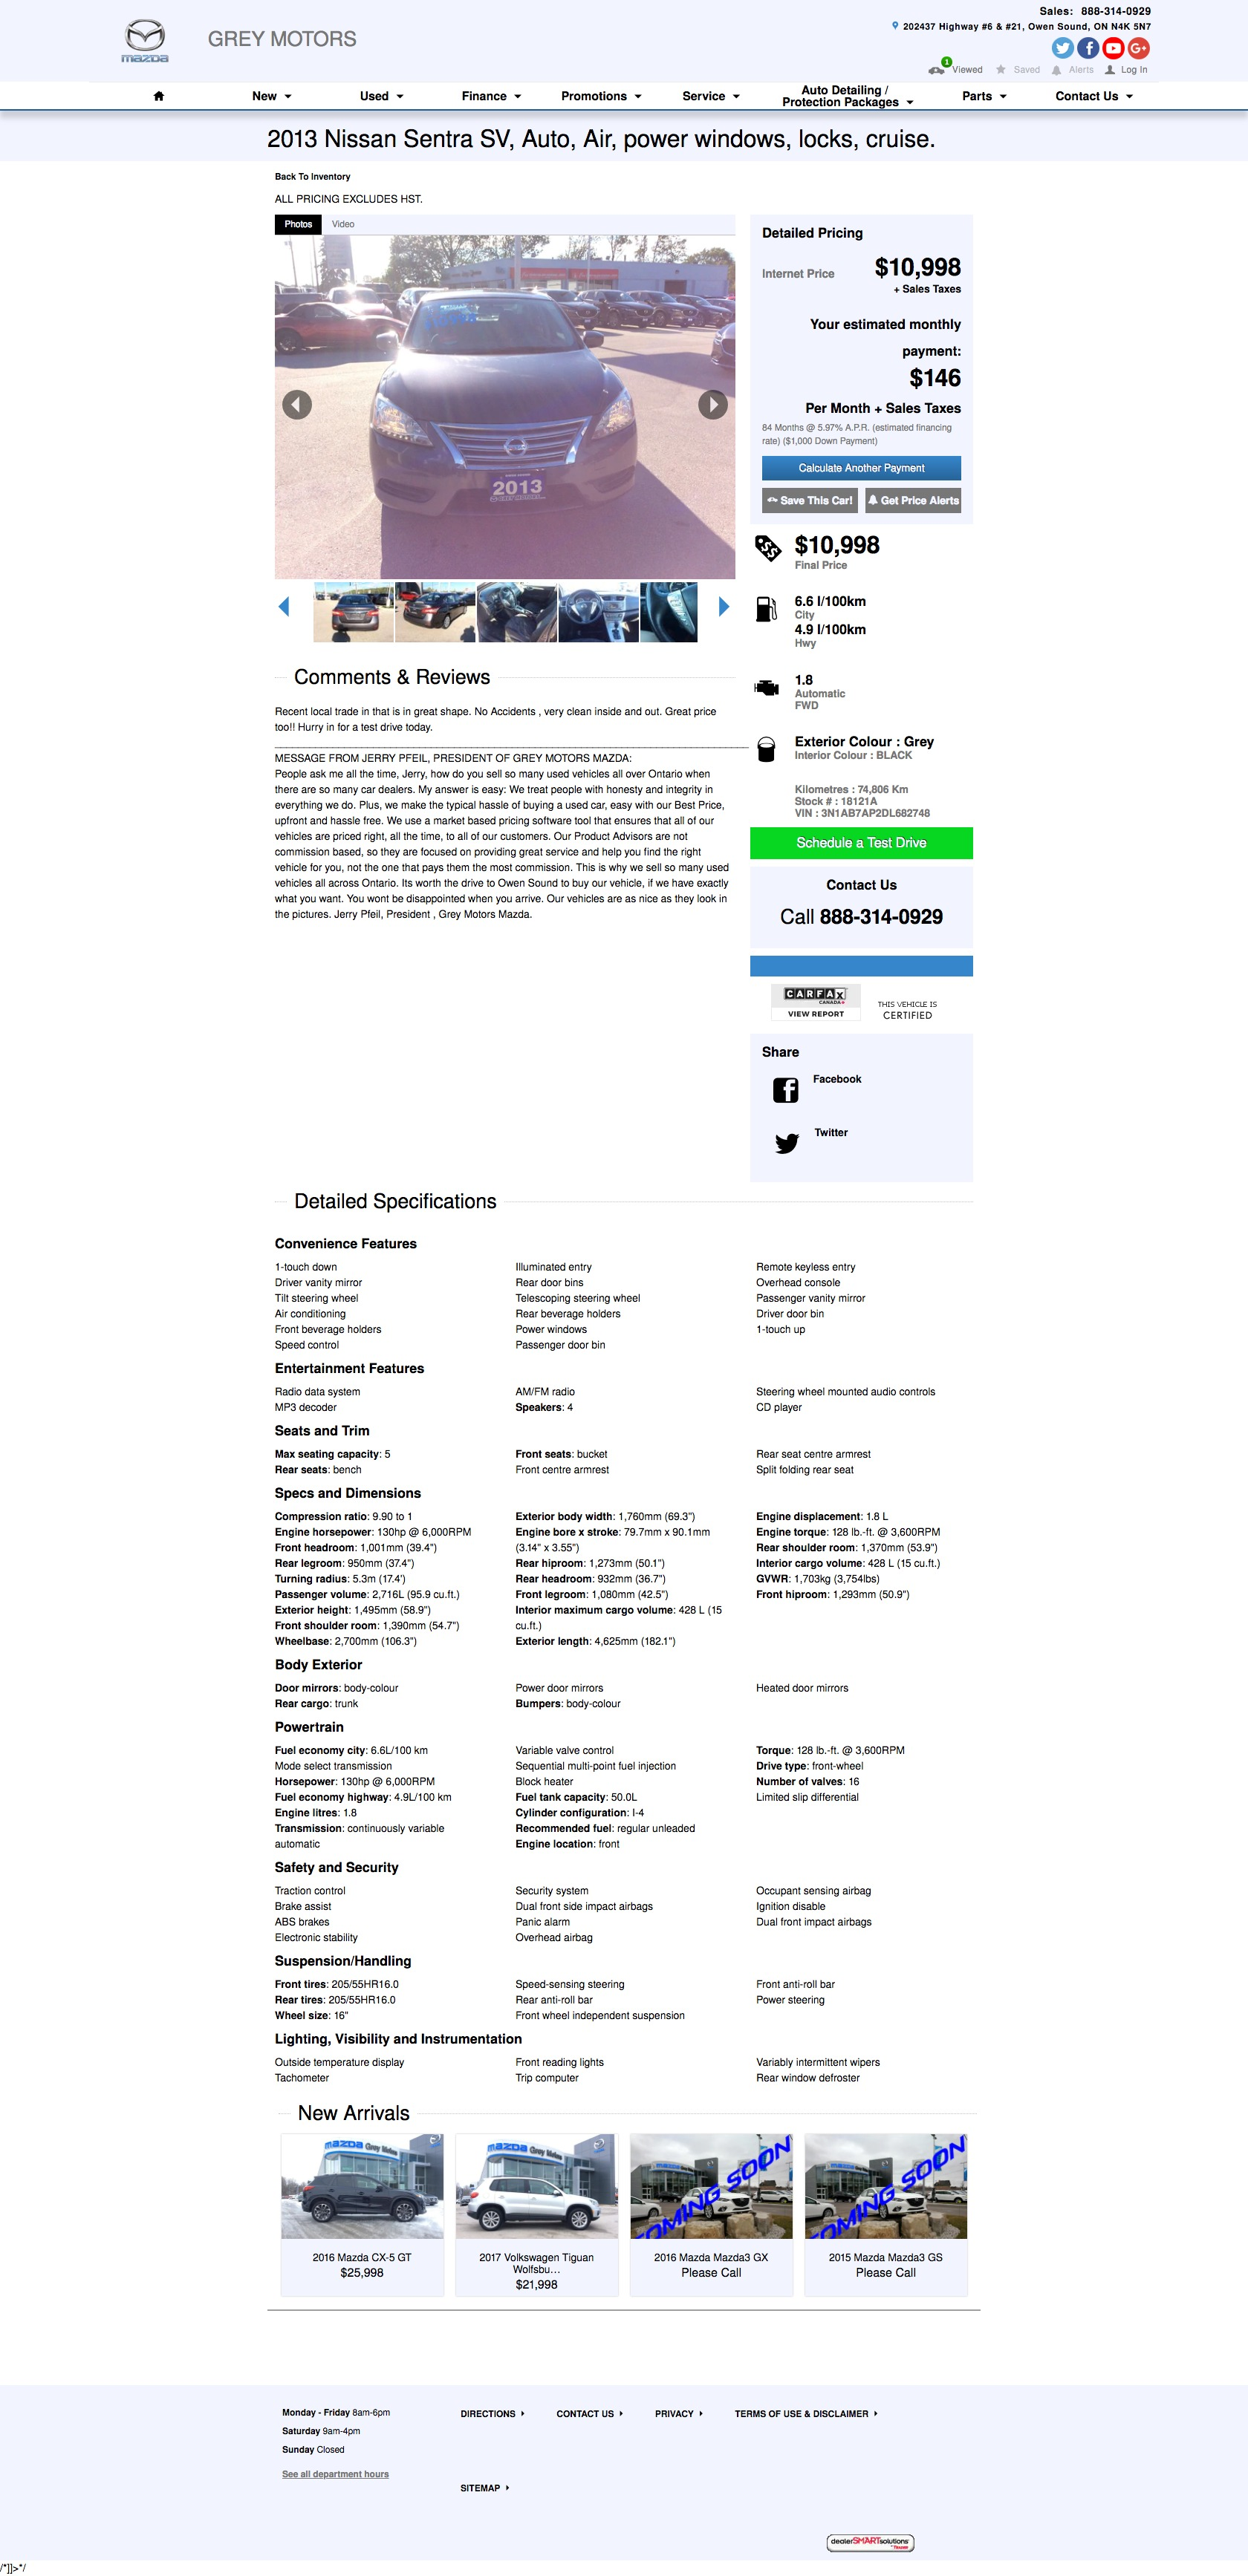car: (719, 596, 730, 618)
